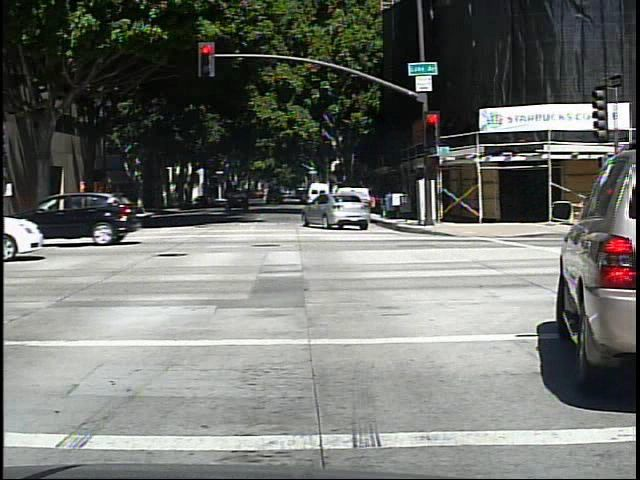person: (98, 186, 113, 219)
